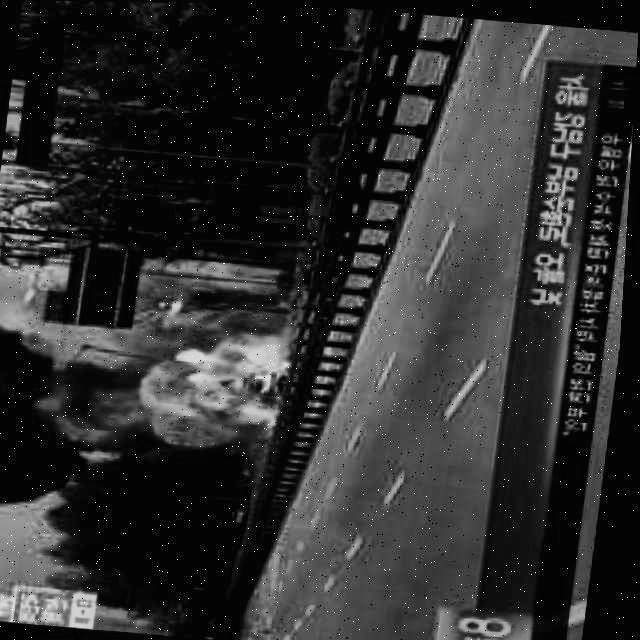Fire: (144, 361, 279, 430), (206, 333, 292, 370), (228, 261, 291, 290)
